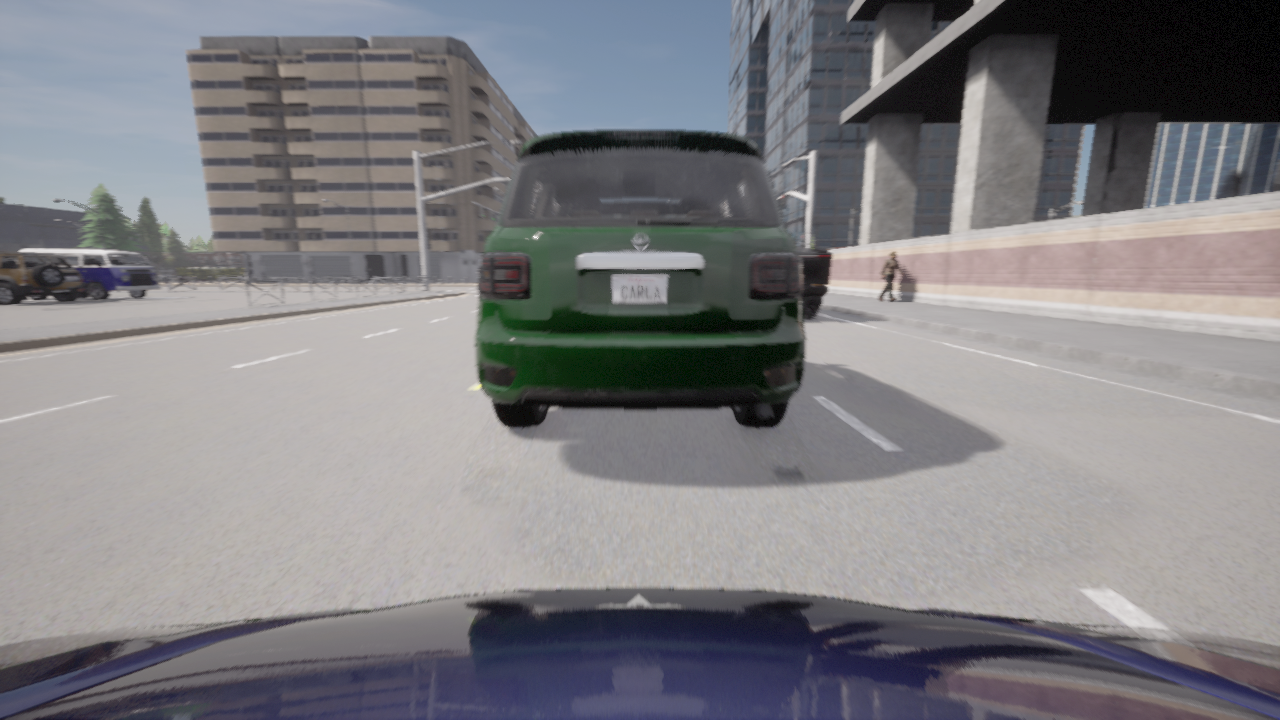cyclist: (0, 588, 1279, 719), (475, 130, 805, 427), (20, 249, 160, 300), (796, 247, 831, 318)
pedestrian: (879, 252, 902, 301)
